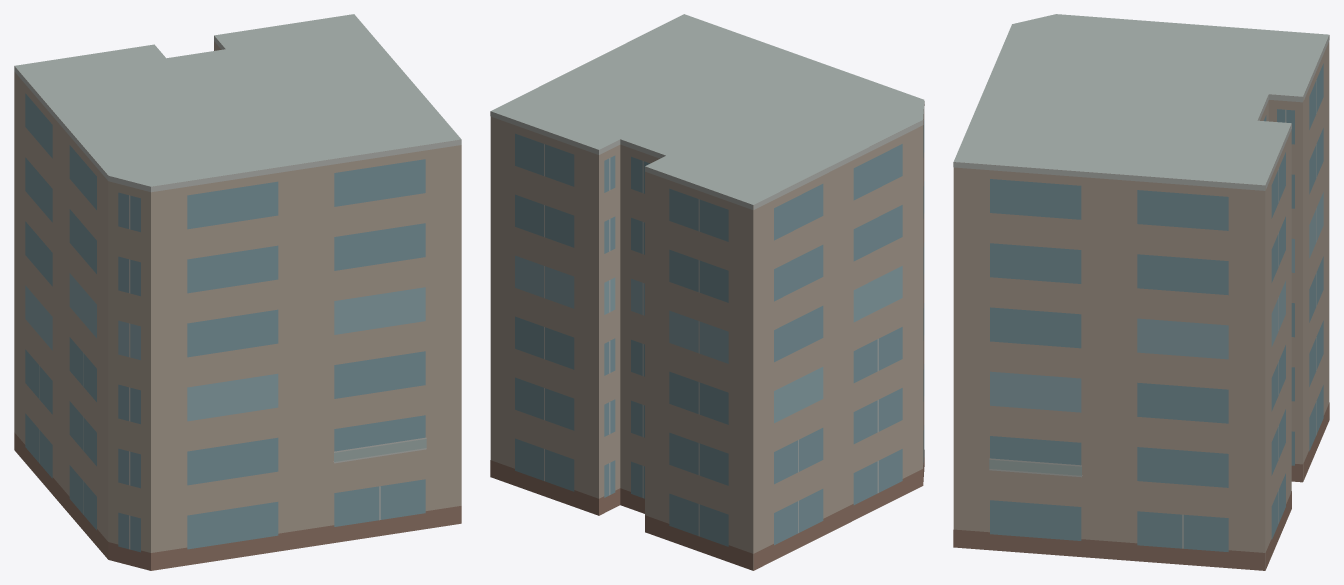
The model's file is survey-upis-32665126.glb.
3 views of the same model, side by side, from view 1: azimuth 30°, elevation 25°; view 2: azimuth 150°, elevation 25°; view 3: azimuth 270°, elevation 25° (orthographic). The views are drawn at different scales.
Visible parts, largest first — view 1: survey-upis-32665126.tmp; view 2: survey-upis-32665126.tmp; view 3: survey-upis-32665126.tmp.
Part boxes in pixels (box(x1,y1,x2,y2)): survey-upis-32665126.tmp: box(14, 14, 461, 570); survey-upis-32665126.tmp: box(490, 14, 924, 570); survey-upis-32665126.tmp: box(953, 14, 1329, 570).
Size of the model in its own units: 16.22 by 17 by 15.04.
